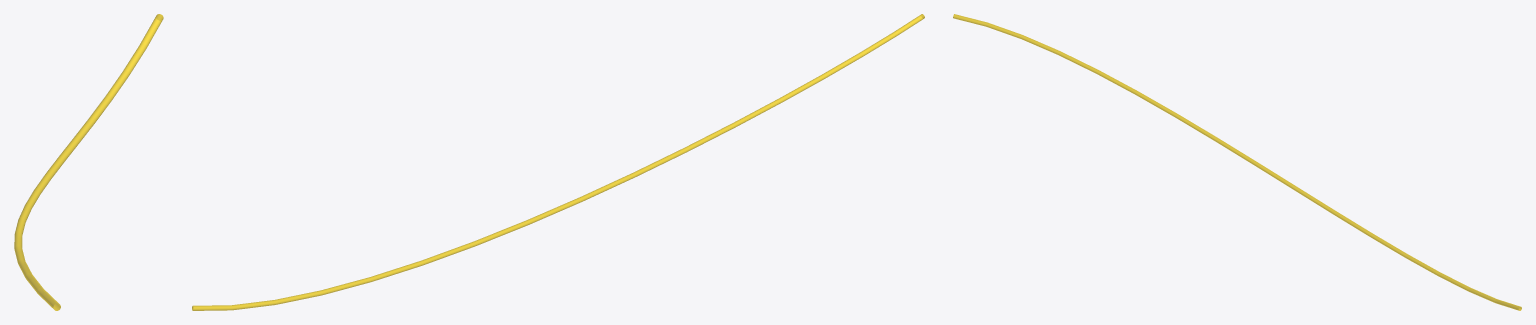
Rendered from Event_17758602_track_99.fbx.
3 views of the same model, side by side, from view 1: azimuth 90°, elevation 25°; view 2: azimuth 210°, elevation 25°; view 3: azimuth 330°, elevation 25° (orthographic). The views are drawn at different scales.
Parts seen in each view (by area): view 1: Model; view 2: Model; view 3: Model.
Part boxes in pixels (x1,y1,x2,y2): Model: (14, 14, 163, 310); Model: (192, 14, 924, 310); Model: (953, 14, 1521, 310).
Bounding box in the file's own units: 6.17 × 1.31 × 0.7599.
